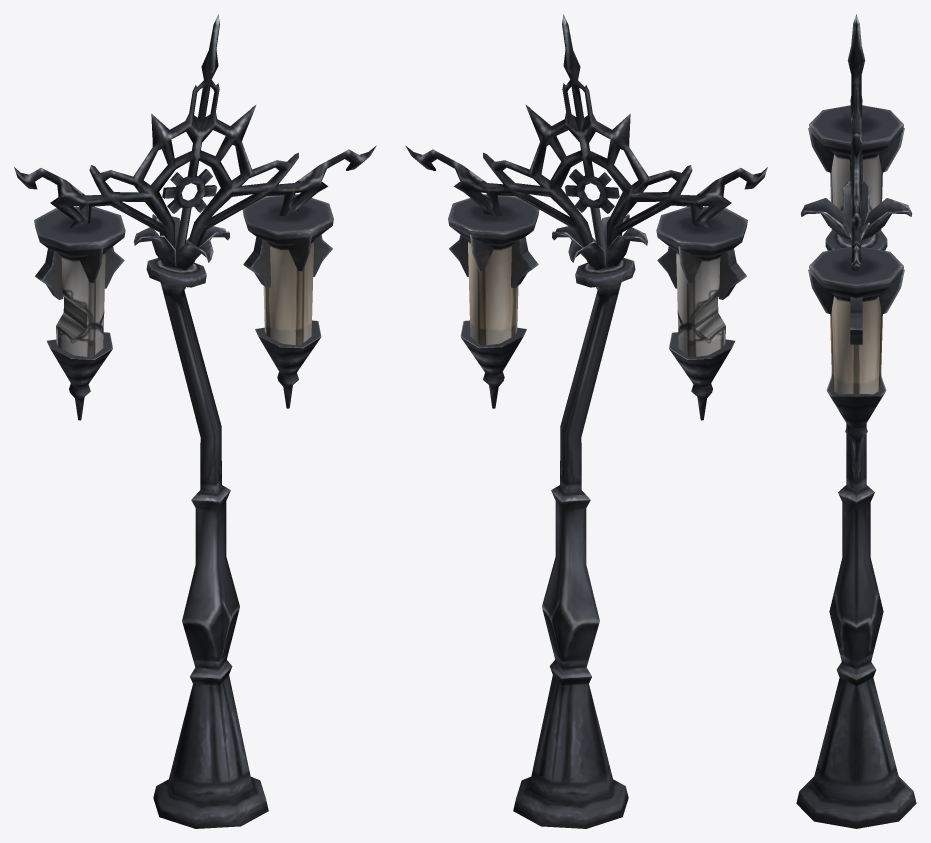
File: SM_Plains_ludeng02.FBX
3 renders of one model, left to right at view 1: azimuth 30°, elevation 25°; view 2: azimuth 150°, elevation 25°; view 3: azimuth 270°, elevation 25°, orthographic.
Parts seen in each view (by area): view 1: SM_Plains_ludeng02; view 2: SM_Plains_ludeng02; view 3: SM_Plains_ludeng02.
Boxes of the visible parts, x1,y1,x2,y2 form: SM_Plains_ludeng02: (14,14,376,828); SM_Plains_ludeng02: (405,14,767,828); SM_Plains_ludeng02: (796,14,916,828).
Bounding box in the file's own units: 278 × 577 × 79.37.
